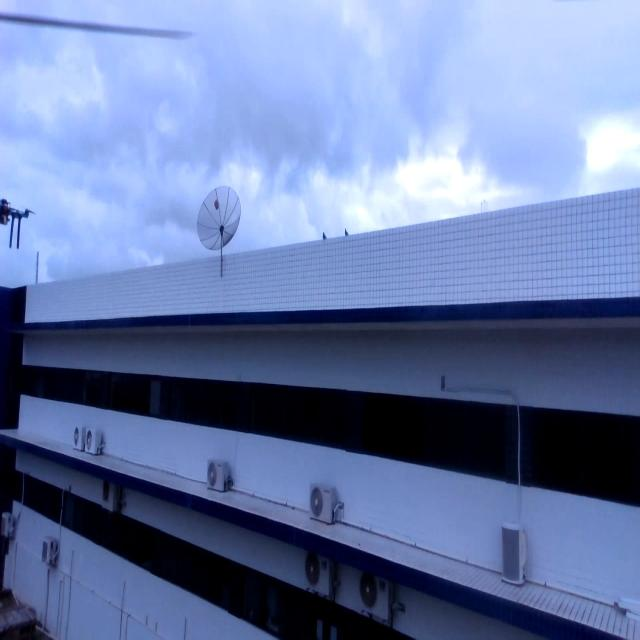-uav-: (0, 195, 42, 254)
